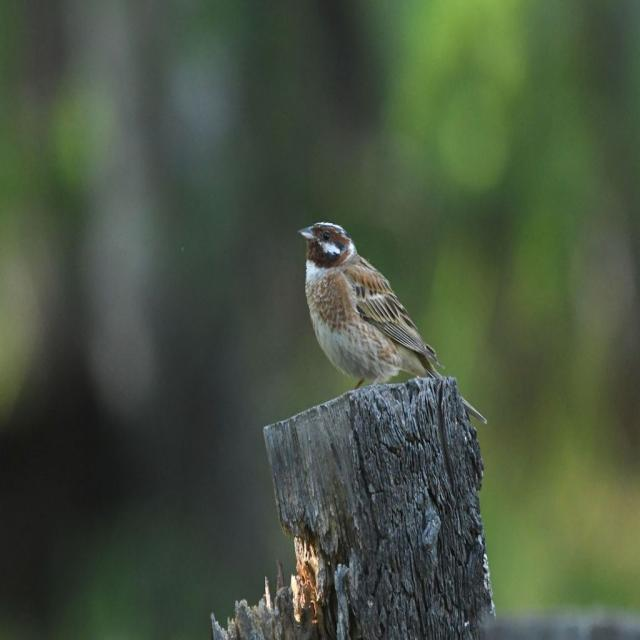bird: (298, 225, 450, 398)
